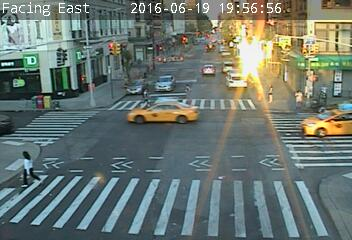neg: (290, 121, 314, 153), (51, 93, 66, 113), (157, 68, 170, 86), (191, 39, 204, 56), (205, 56, 215, 69)
pos: (13, 149, 44, 189), (287, 84, 309, 113), (262, 81, 282, 107)
